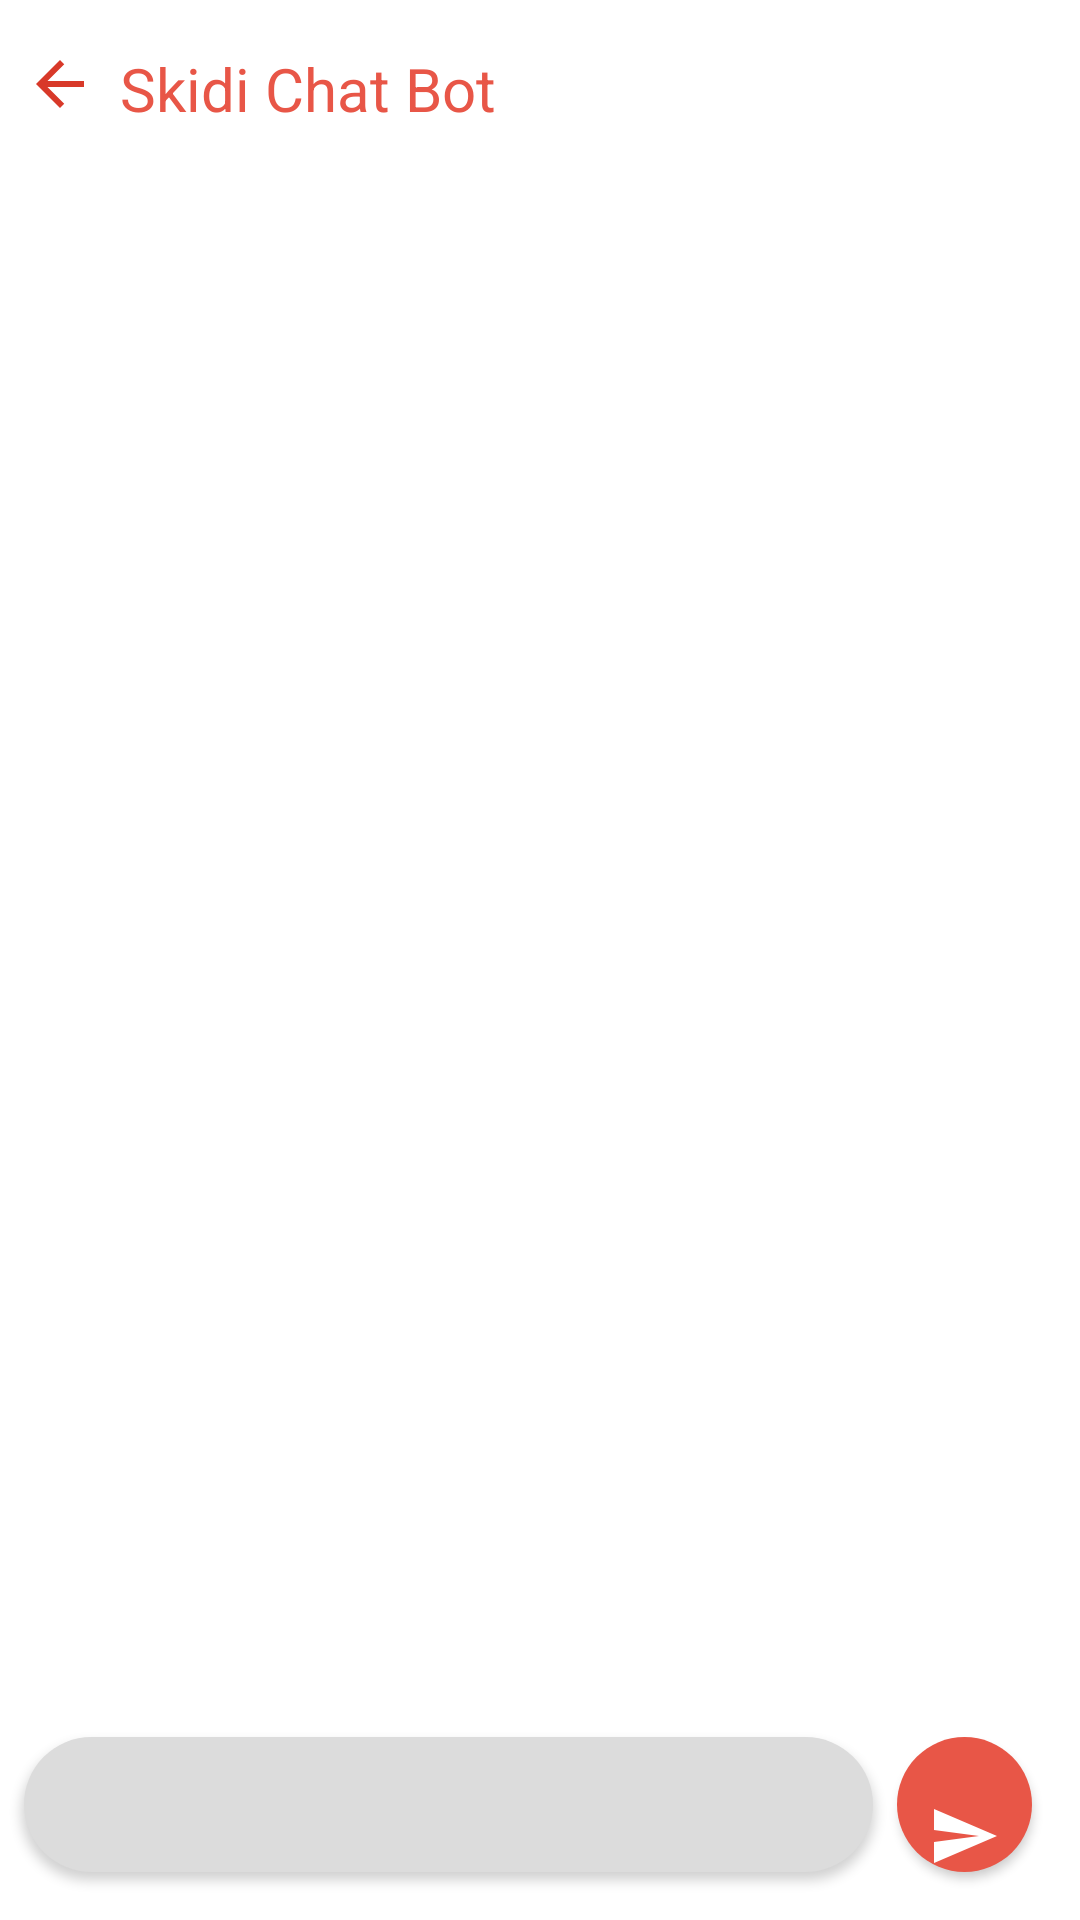

Locate icon controls on the screen. Image size 1080*1920, boxes as {"x1": x1, "y1": y1, "x2": x2, "y2": y2}.
arrow back: {"x1": 36, "y1": 60, "x2": 84, "y2": 108}
